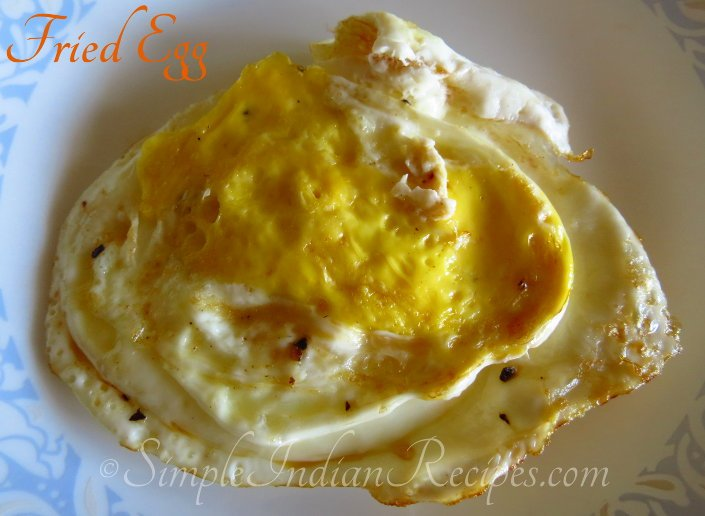fried egg: (143, 90, 568, 411)
